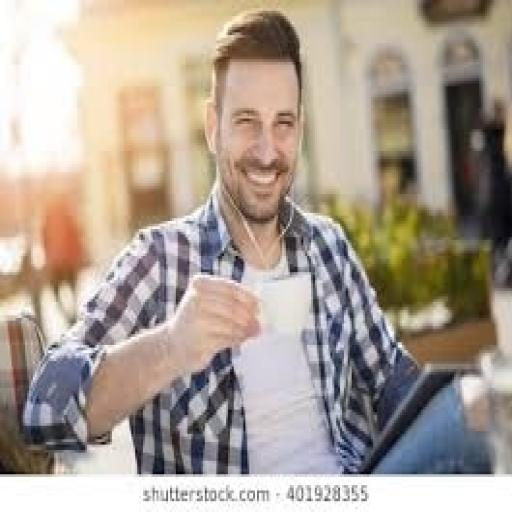listening_to_music: (20, 6, 496, 474)
